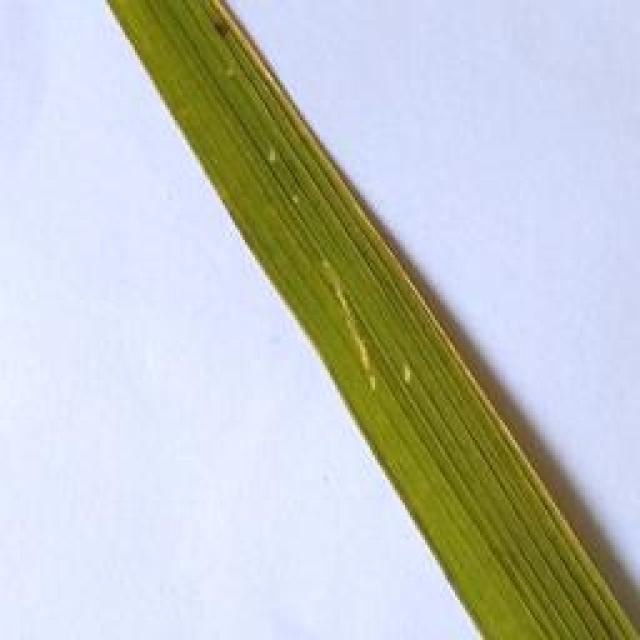Bacterial_Blight: (318, 260, 398, 422), (262, 141, 282, 174)
Brown_Spot: (202, 19, 231, 44)
